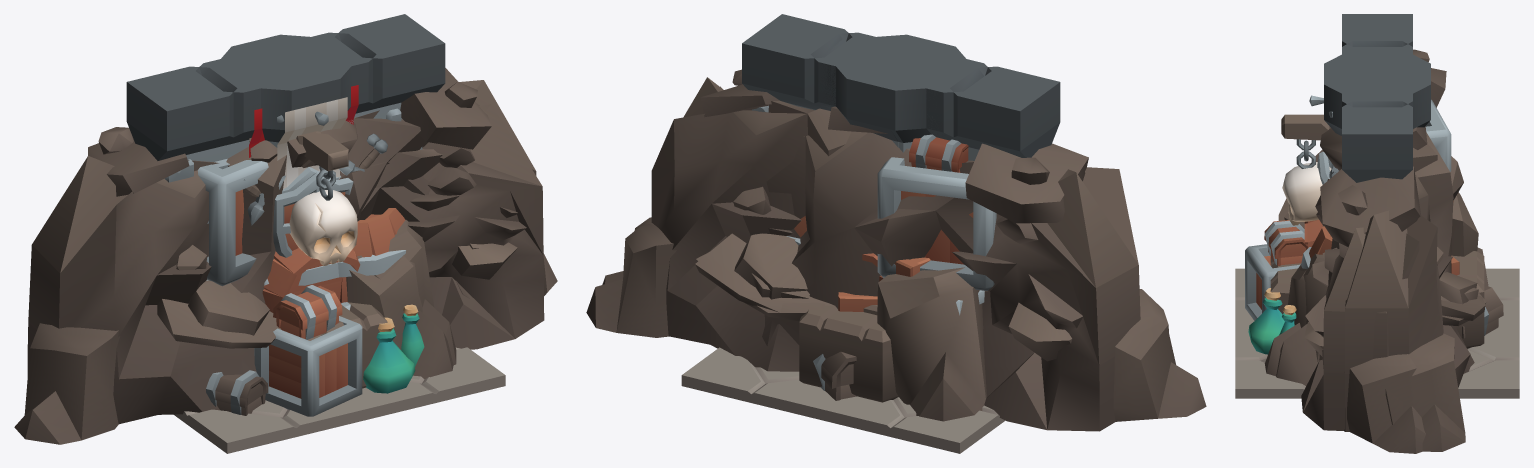
The model's file is dungeon.glb.
The picture shows the model from 3 angles, left to right: view 1: azimuth 30°, elevation 25°; view 2: azimuth 150°, elevation 25°; view 3: azimuth 270°, elevation 25°; orthographic projection. The views are drawn at different scales.
Parts seen in each view (by area): view 1: rubble_large, box_stacked, wall, rubble_half, floor_tile_large, wall_arched, wall_pillar, pillar_decorated, post_skull_skull, keg, post_skull, pillar (+4 smaller); view 2: rubble_large, rubble_half, wall, floor_tile_large, box_stacked, wall_pillar, wall_arched, coffin, coffin_lid, wall_cracked, crates_stacked, pillar; view 3: rubble_half, rubble_large, wall, floor_tile_large, box_stacked, wall_pillar, wall_arched, wall_cracked, post_skull_skull, coffin_lid, post_skull, coffin (+3 smaller).
Boxes of the visible parts, bbox=[...] form: rubble_large: bbox=[14, 104, 557, 444]; box_stacked: bbox=[197, 160, 424, 416]; wall: bbox=[126, 14, 444, 169]; rubble_half: bbox=[339, 68, 536, 364]; floor_tile_large: bbox=[174, 347, 505, 453]; wall_arched: bbox=[127, 17, 445, 182]; wall_pillar: bbox=[186, 33, 367, 161]; pillar_decorated: bbox=[243, 97, 387, 257]; post_skull_skull: bbox=[289, 166, 357, 266]; keg: bbox=[262, 248, 360, 312]; post_skull: bbox=[296, 131, 348, 171]; pillar: bbox=[236, 36, 334, 109]; rubble_large: bbox=[602, 86, 1206, 431]; rubble_half: bbox=[586, 69, 851, 371]; wall: bbox=[742, 14, 1059, 160]; floor_tile_large: bbox=[681, 347, 1005, 453]; box_stacked: bbox=[786, 134, 996, 400]; wall_pillar: bbox=[776, 34, 978, 159]; wall_arched: bbox=[748, 14, 1060, 160]; coffin: bbox=[799, 333, 898, 402]; coffin_lid: bbox=[799, 305, 891, 353]; wall_cracked: bbox=[753, 15, 986, 160]; crates_stacked: bbox=[838, 257, 930, 311]; pillar: bbox=[852, 44, 935, 147]; rubble_half: bbox=[1276, 144, 1485, 451]; rubble_large: bbox=[1264, 49, 1488, 453]; wall: bbox=[1342, 14, 1412, 182]; floor_tile_large: bbox=[1235, 268, 1519, 398]; box_stacked: bbox=[1245, 99, 1503, 354]; wall_pillar: bbox=[1324, 47, 1430, 135]; wall_arched: bbox=[1342, 14, 1412, 178]; wall_cracked: bbox=[1342, 14, 1410, 178]; post_skull_skull: bbox=[1282, 139, 1331, 225]; coffin_lid: bbox=[1270, 251, 1484, 302]; post_skull: bbox=[1281, 114, 1330, 140]; coffin: bbox=[1278, 302, 1484, 348].
Size of the model in its own units: 8.13 by 4.79 by 4.
Materials: 2 (2 with a texture image).
